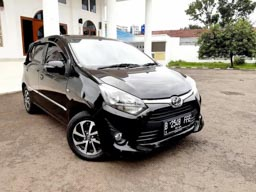plat: (164, 114, 191, 134)
